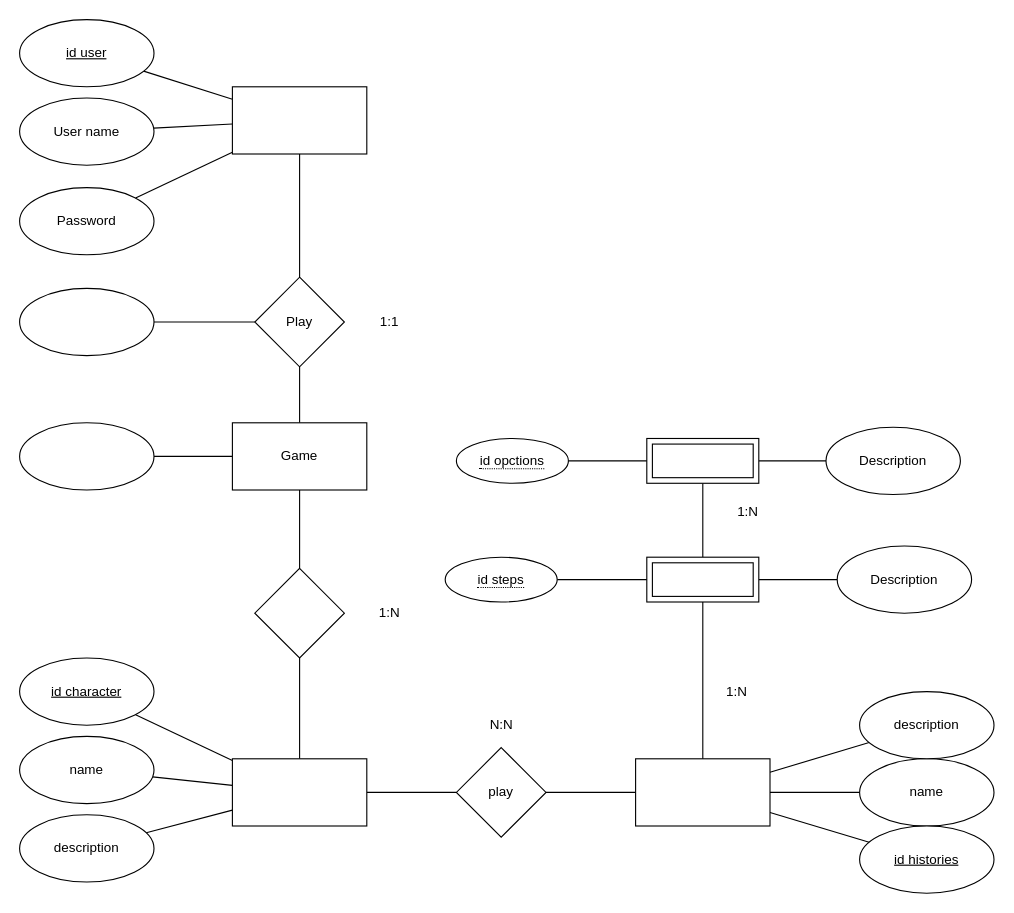
The diagram is 1014 pixels wide and 913 high, and some of its shapes have lost their labels. The centre of each missing label's shape, as x and y in pixels:
"are" goes at pixel 299 612.
"Character" goes at pixel 299 792.
"Histories" goes at pixel 702 792.
"Id game" goes at pixel 86 456.
"options" goes at pixel 702 460.
"Steps" goes at pixel 702 579.
"system date" goes at pixel 86 321.
"User" goes at pixel 299 120.
